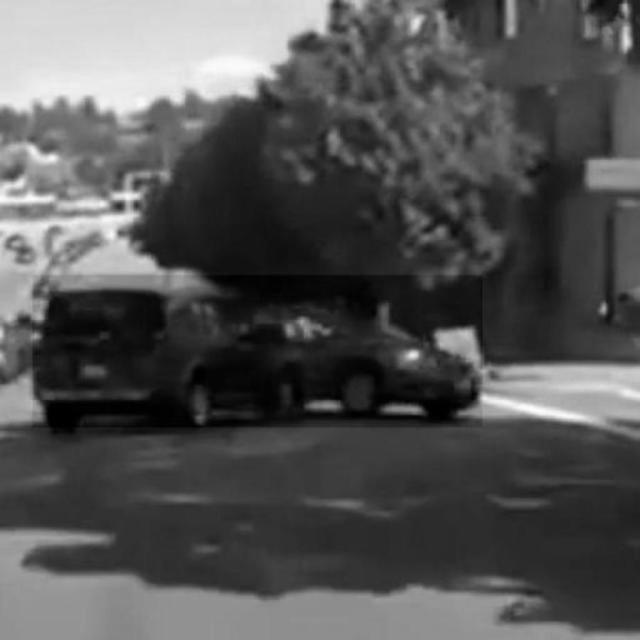accident: (33, 276, 483, 428)
